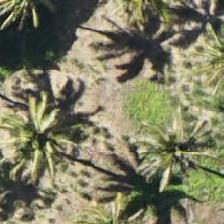coconut_tree: (128, 87, 218, 177), (0, 70, 81, 160)
